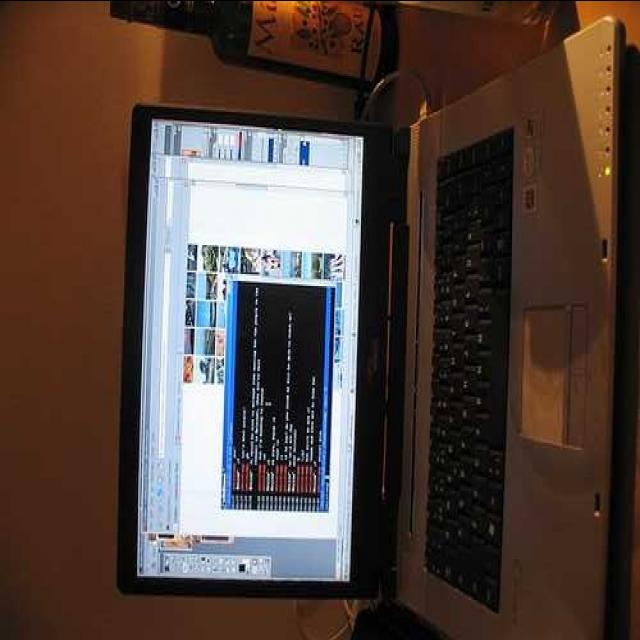laptop: (123, 83, 622, 608)
